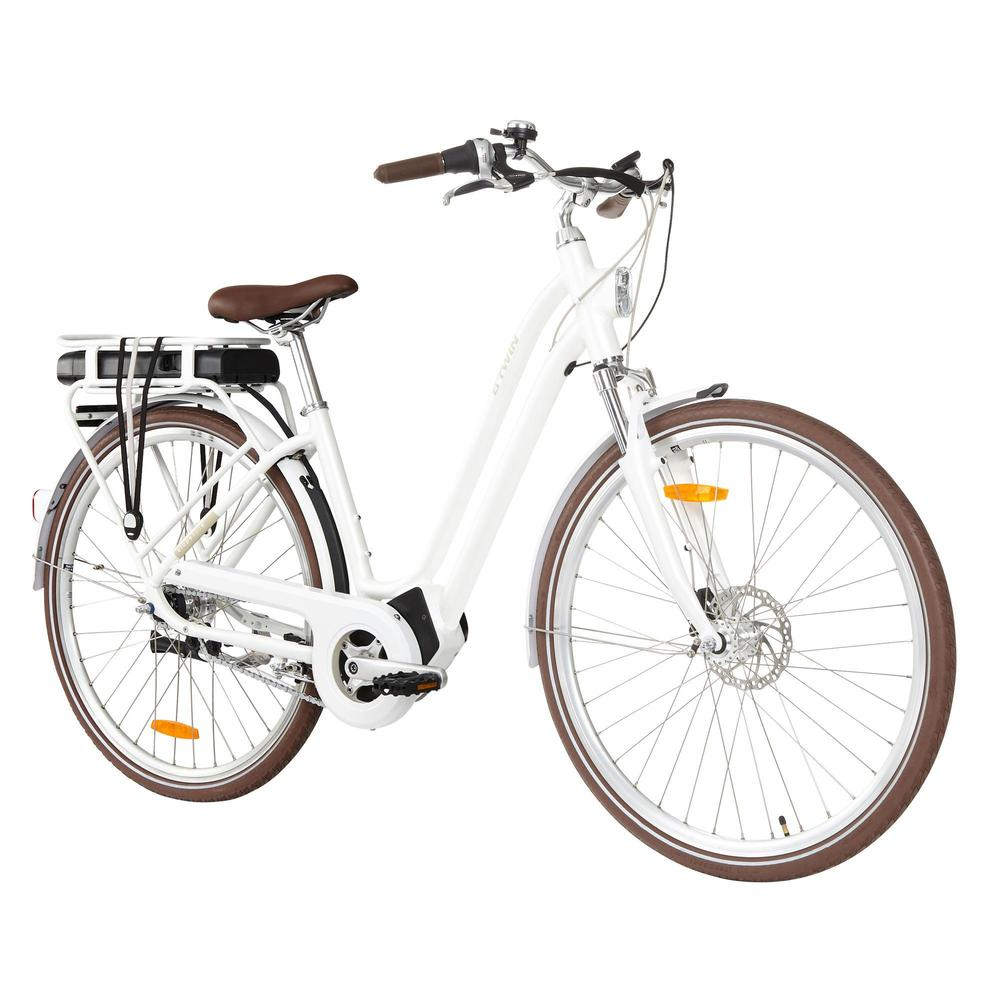UrbanBike: (46, 109, 974, 859)
